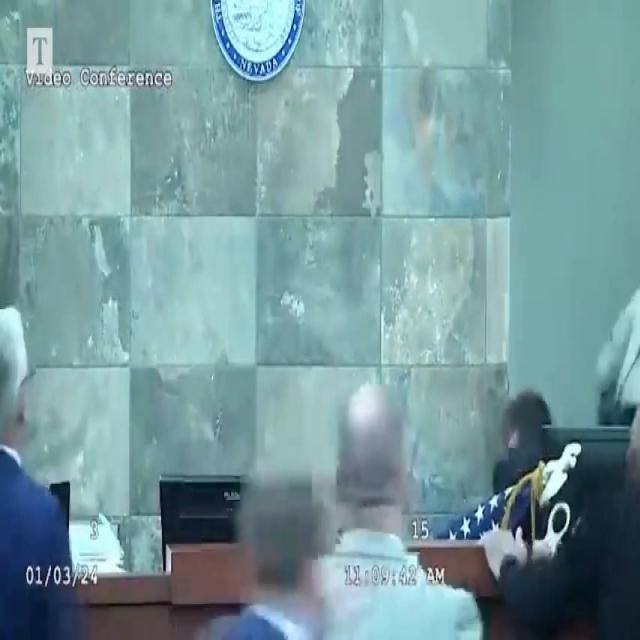non-fight: (210, 366, 484, 640), (0, 292, 79, 640)
